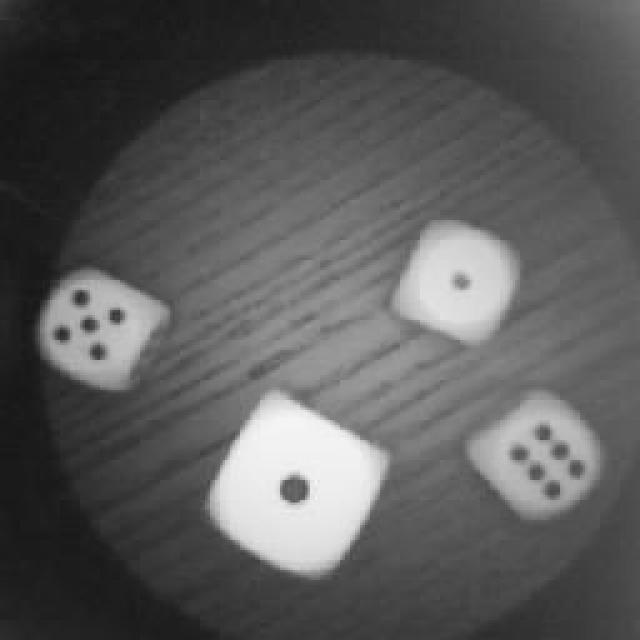dice_1: (205, 390, 390, 585), (392, 217, 522, 345)
dice_5: (35, 265, 165, 395)
dice_6: (468, 395, 602, 527)
